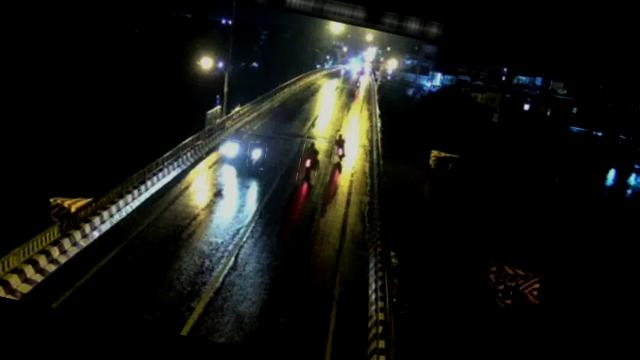Bike: (296, 135, 324, 184), (330, 130, 351, 162), (246, 141, 268, 170), (219, 138, 243, 158)
